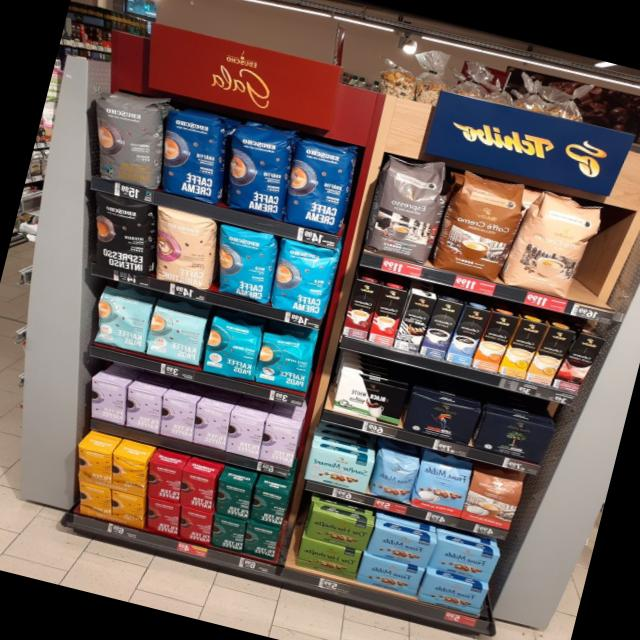BM Gemahlen: (471, 408, 557, 468)
BW Gemahlen: (330, 371, 410, 426)
CC Mild: (502, 183, 605, 304)
CC Vollmundig: (461, 462, 528, 533)
CC Vollmundig 36 Pads: (430, 166, 530, 286)
Espresso Aromatisch: (364, 147, 451, 266)
FM 36 Pads: (410, 450, 474, 518)
FM Bohne: (367, 447, 422, 505)
FM Gemahlen: (428, 536, 502, 584), (416, 570, 491, 617), (355, 552, 425, 598), (366, 524, 436, 568)
Herzhatfe Mundig: (303, 508, 373, 552), (295, 536, 361, 580)
LG Gemahlen: (400, 390, 480, 448)
SM Gemahlen: (304, 443, 376, 494)
Simo CC Colombia: (551, 332, 606, 392)
Simo CCMild bigpack: (496, 318, 547, 379)
Simo CCVollmundig bigpack: (471, 311, 519, 372)
Simo Decaff: (524, 325, 575, 386)
Simo Es Brazil: (366, 284, 406, 347)
Simo Es Caramel: (342, 278, 381, 340)
Simo Es Elegant: (392, 293, 435, 353)
Simo Es Kraft: (419, 298, 464, 359)
Simo Es Vanilla: (444, 304, 491, 365)
